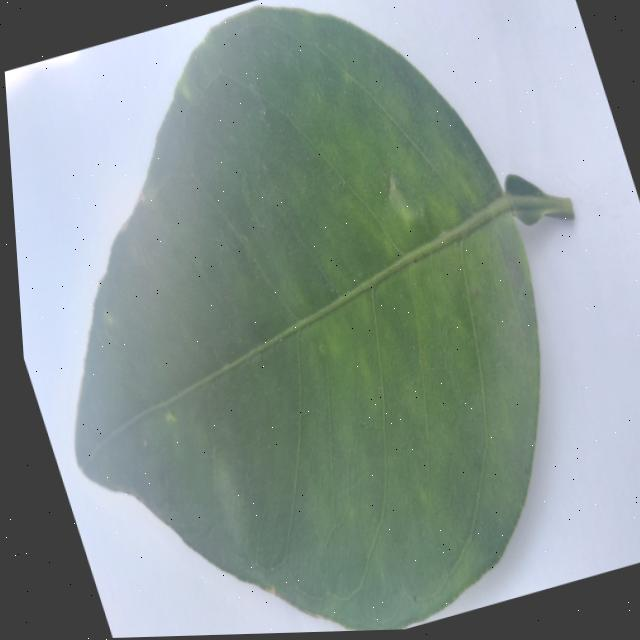greening: (75, 8, 572, 630)
